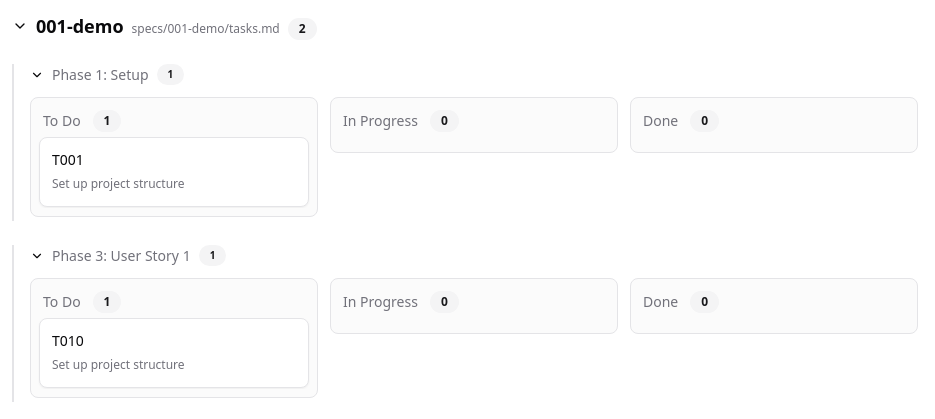
it: KanbanBoardPanel › collapses and expands a single phase without affecting sibling phases in the same swimlane
Click the button "Phase 1: Setup 1".
click(107, 74)  # box [30, 64, 184, 85]
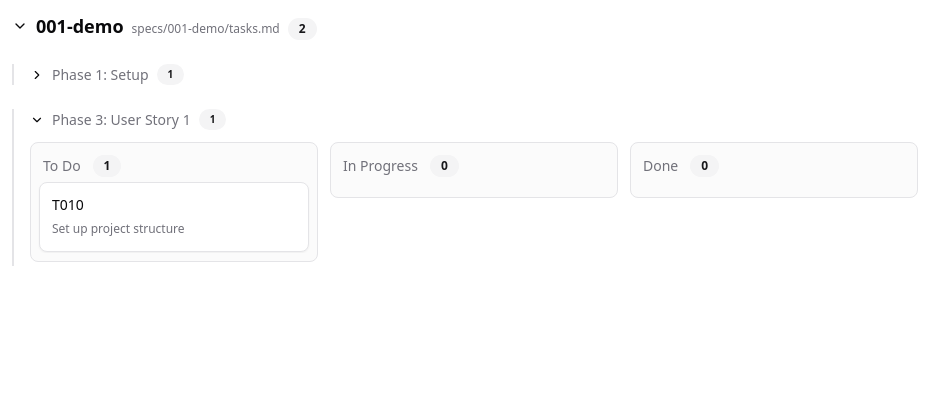
Result: the button "Phase 1: Setup 1" is collapsed at [30, 64, 184, 85]
